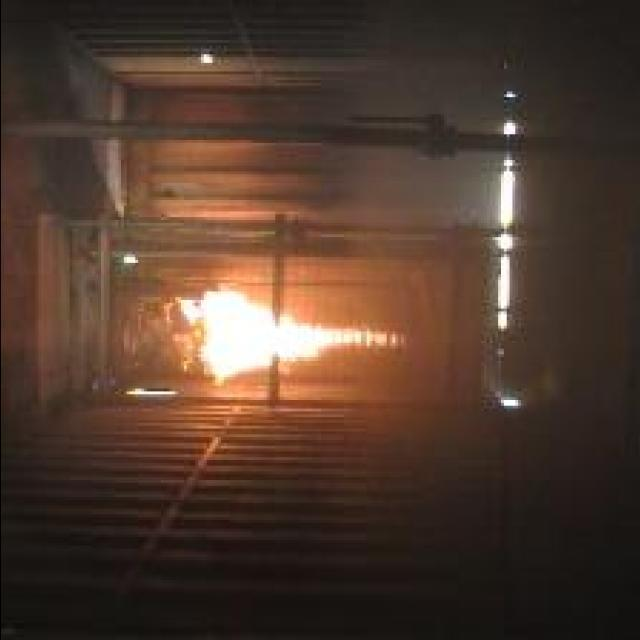Fire: (178, 287, 402, 387)
